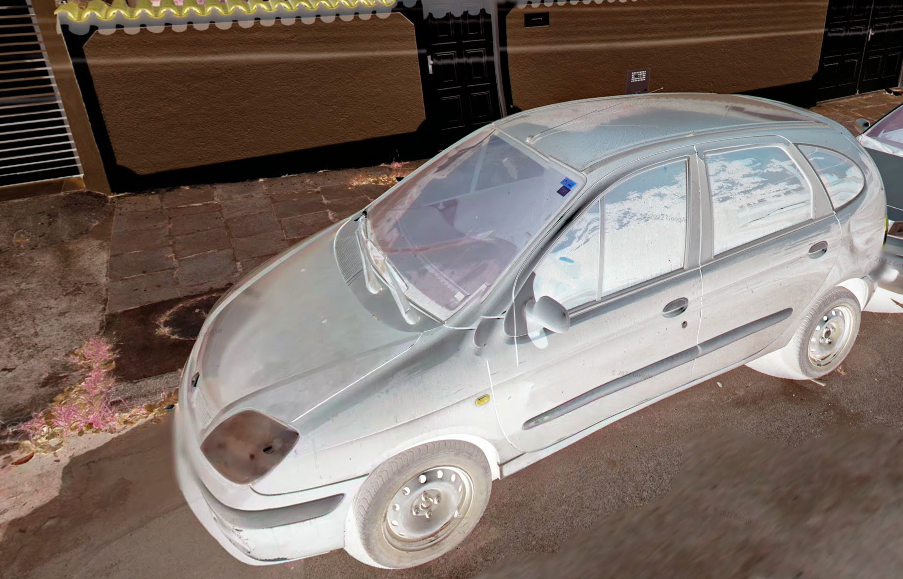car: (171, 93, 888, 571)
